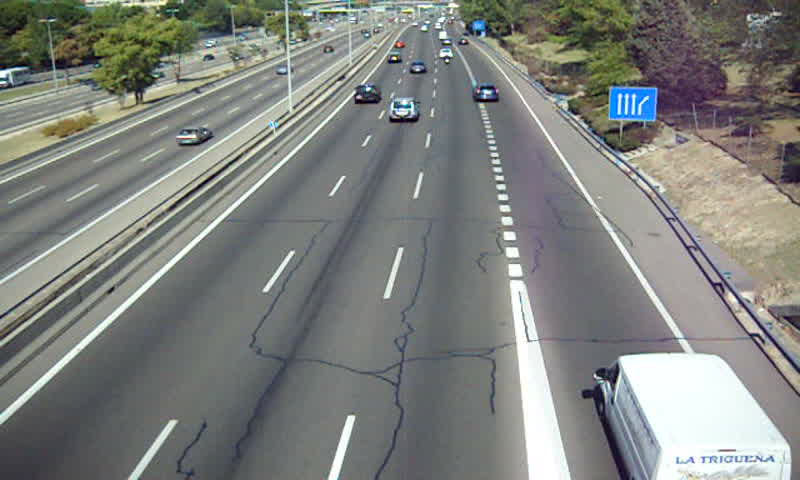car: (387, 97, 421, 122), (353, 84, 382, 105), (474, 83, 501, 103), (408, 61, 428, 76)
van: (597, 351, 791, 480)
